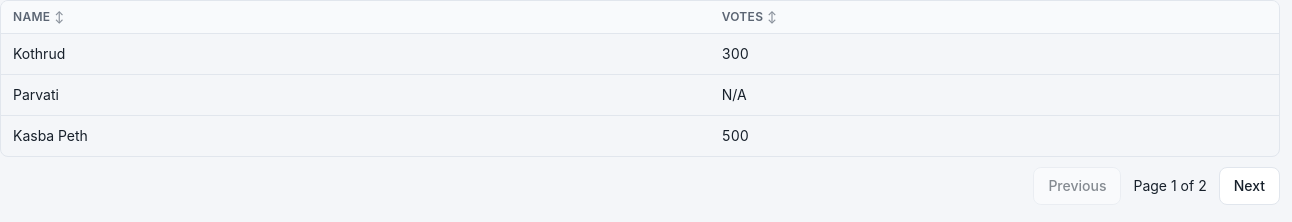
it: DataTable › paginates
Expected: the button "Previous" is disabled, [1033, 167, 1122, 205]
Click the button "Next". click: (1249, 186)
box: [1219, 167, 1280, 205]
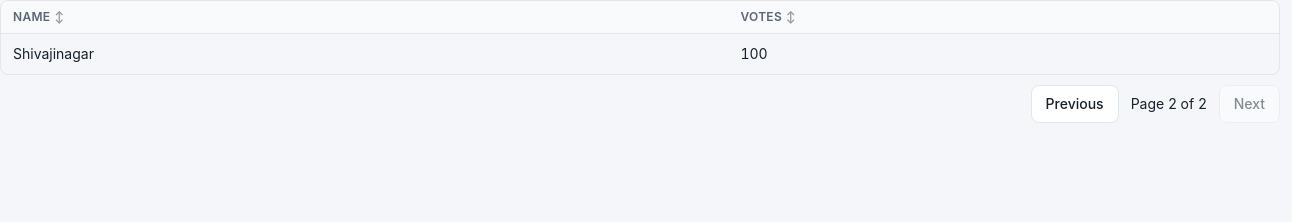
Now the text "Page 2 of 2" is shown, box [1131, 94, 1207, 114]
